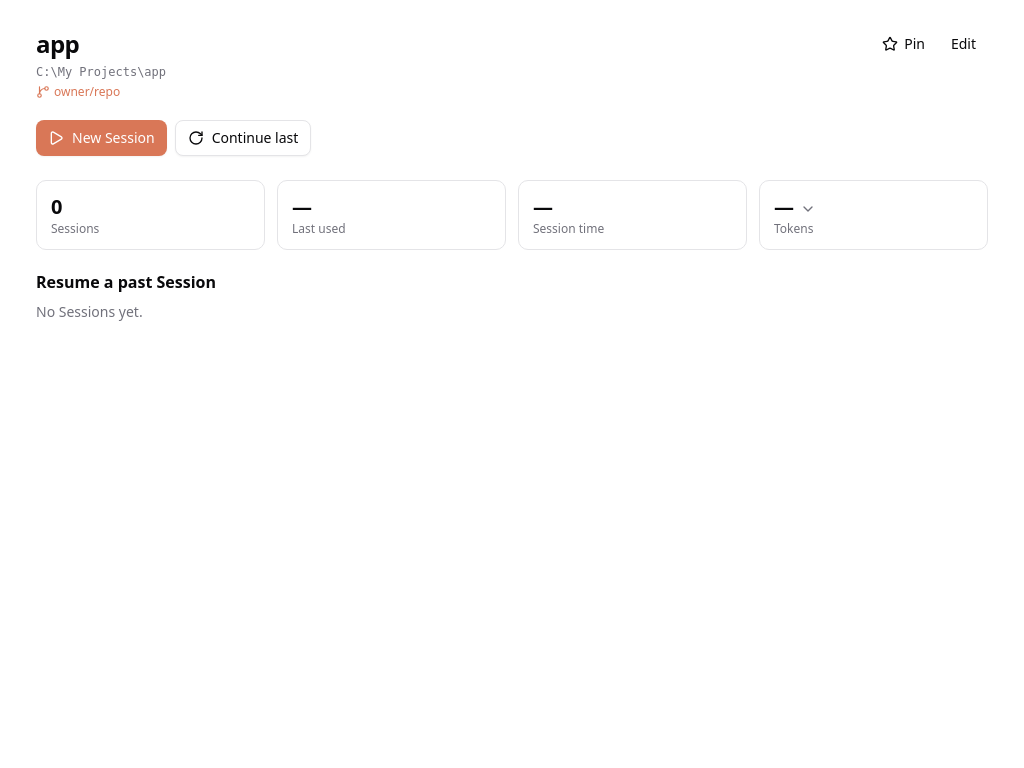
Test case: Git repository (#32) › shows a failed open as a dismissible error toast
The width and height of the screenshot is (1024, 768).
Click the button "owner/repo" at (78, 92), box x1=36 y1=84 x2=120 y2=100
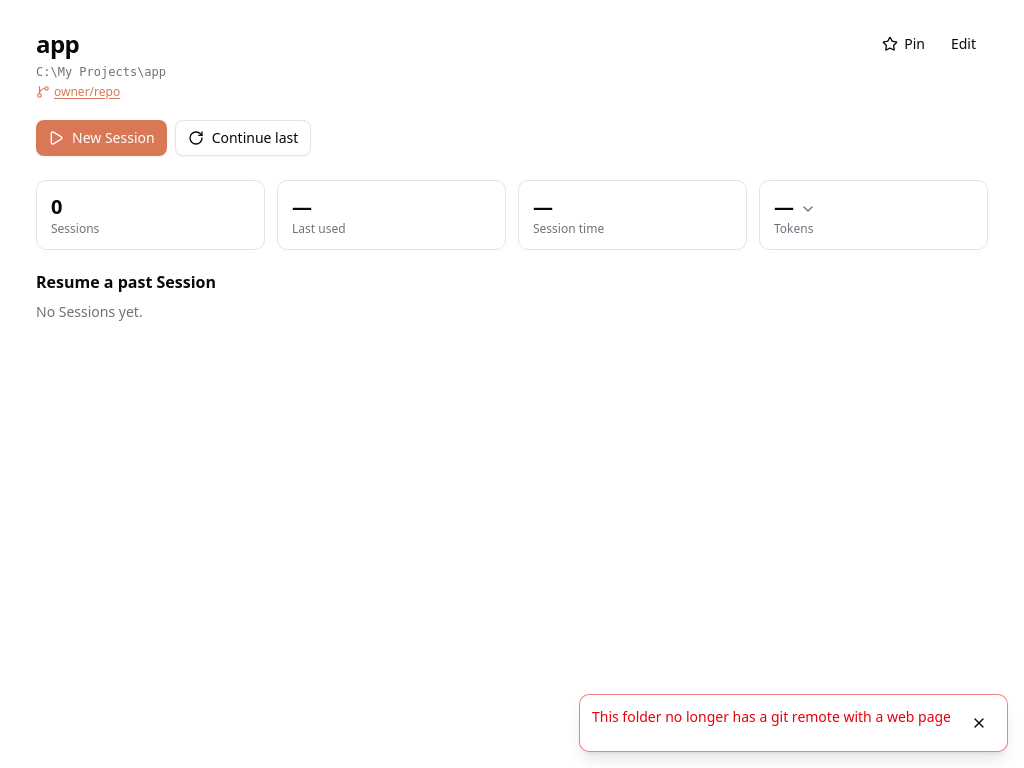
Check: the message reads "This folder no longer has a git remote with a web page", box x1=592 y1=707 x2=951 y2=726
Click the button named "Dismiss" at (979, 723), box x1=963 y1=707 x2=995 y2=739
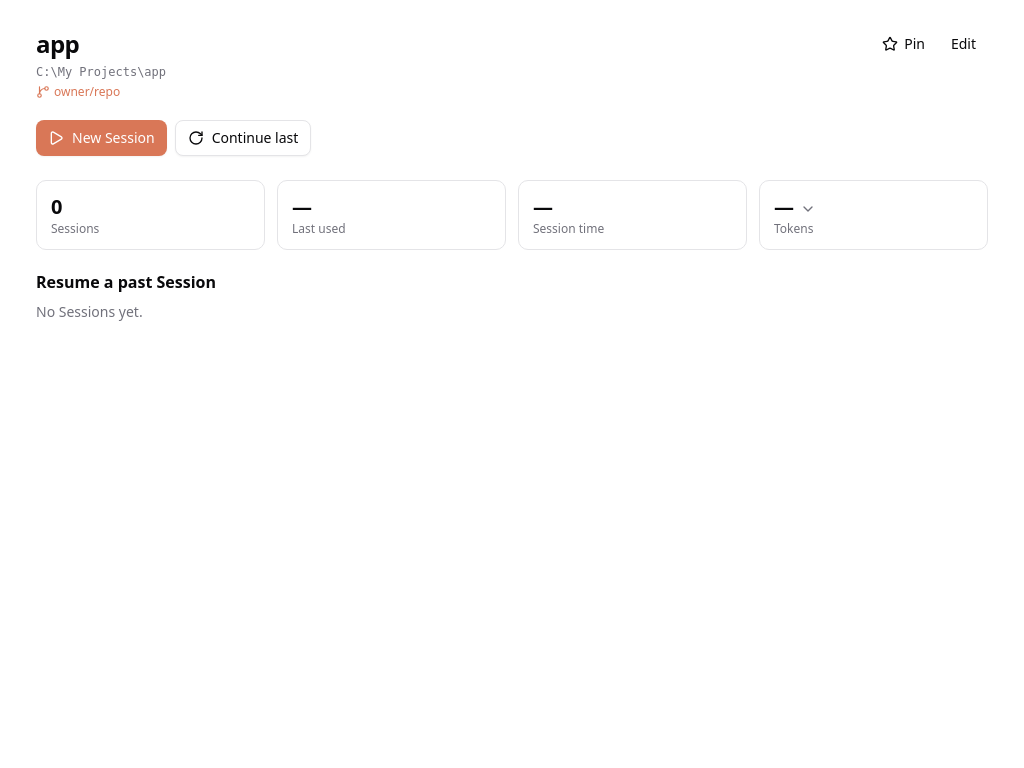
Check: the message "This folder no longer has a git remote with a web page" is gone
